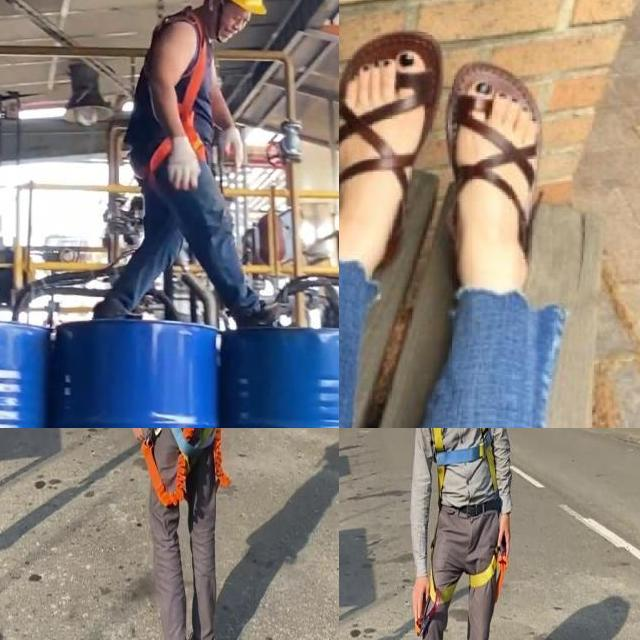Harness: (121, 7, 228, 214), (415, 547, 506, 638), (432, 428, 498, 496)
Sandals: (446, 61, 545, 314), (339, 31, 441, 267)
